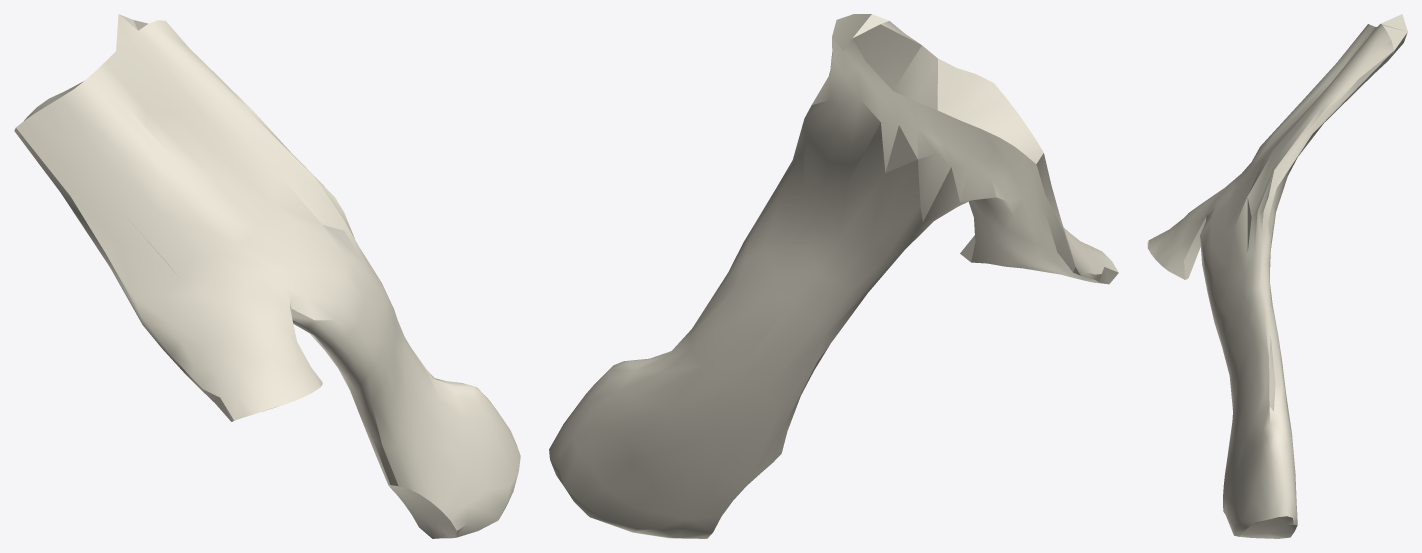
The model's file is fma323754-r_mm2017.glb.
The picture shows the model from 3 angles, left to right: view 1: azimuth 30°, elevation 25°; view 2: azimuth 150°, elevation 25°; view 3: azimuth 270°, elevation 25°; orthographic projection. The views are drawn at different scales.
Visible parts, largest first — view 1: FMA323754-R_MM2017; view 2: FMA323754-R_MM2017; view 3: FMA323754-R_MM2017.
Boxes of the visible parts, bbox=[...] form: FMA323754-R_MM2017: bbox=[14, 14, 520, 538]; FMA323754-R_MM2017: bbox=[549, 14, 1118, 538]; FMA323754-R_MM2017: bbox=[1147, 14, 1407, 538].
Size of the model in its own units: 0.0182 by 0.0204 by 0.0115.
